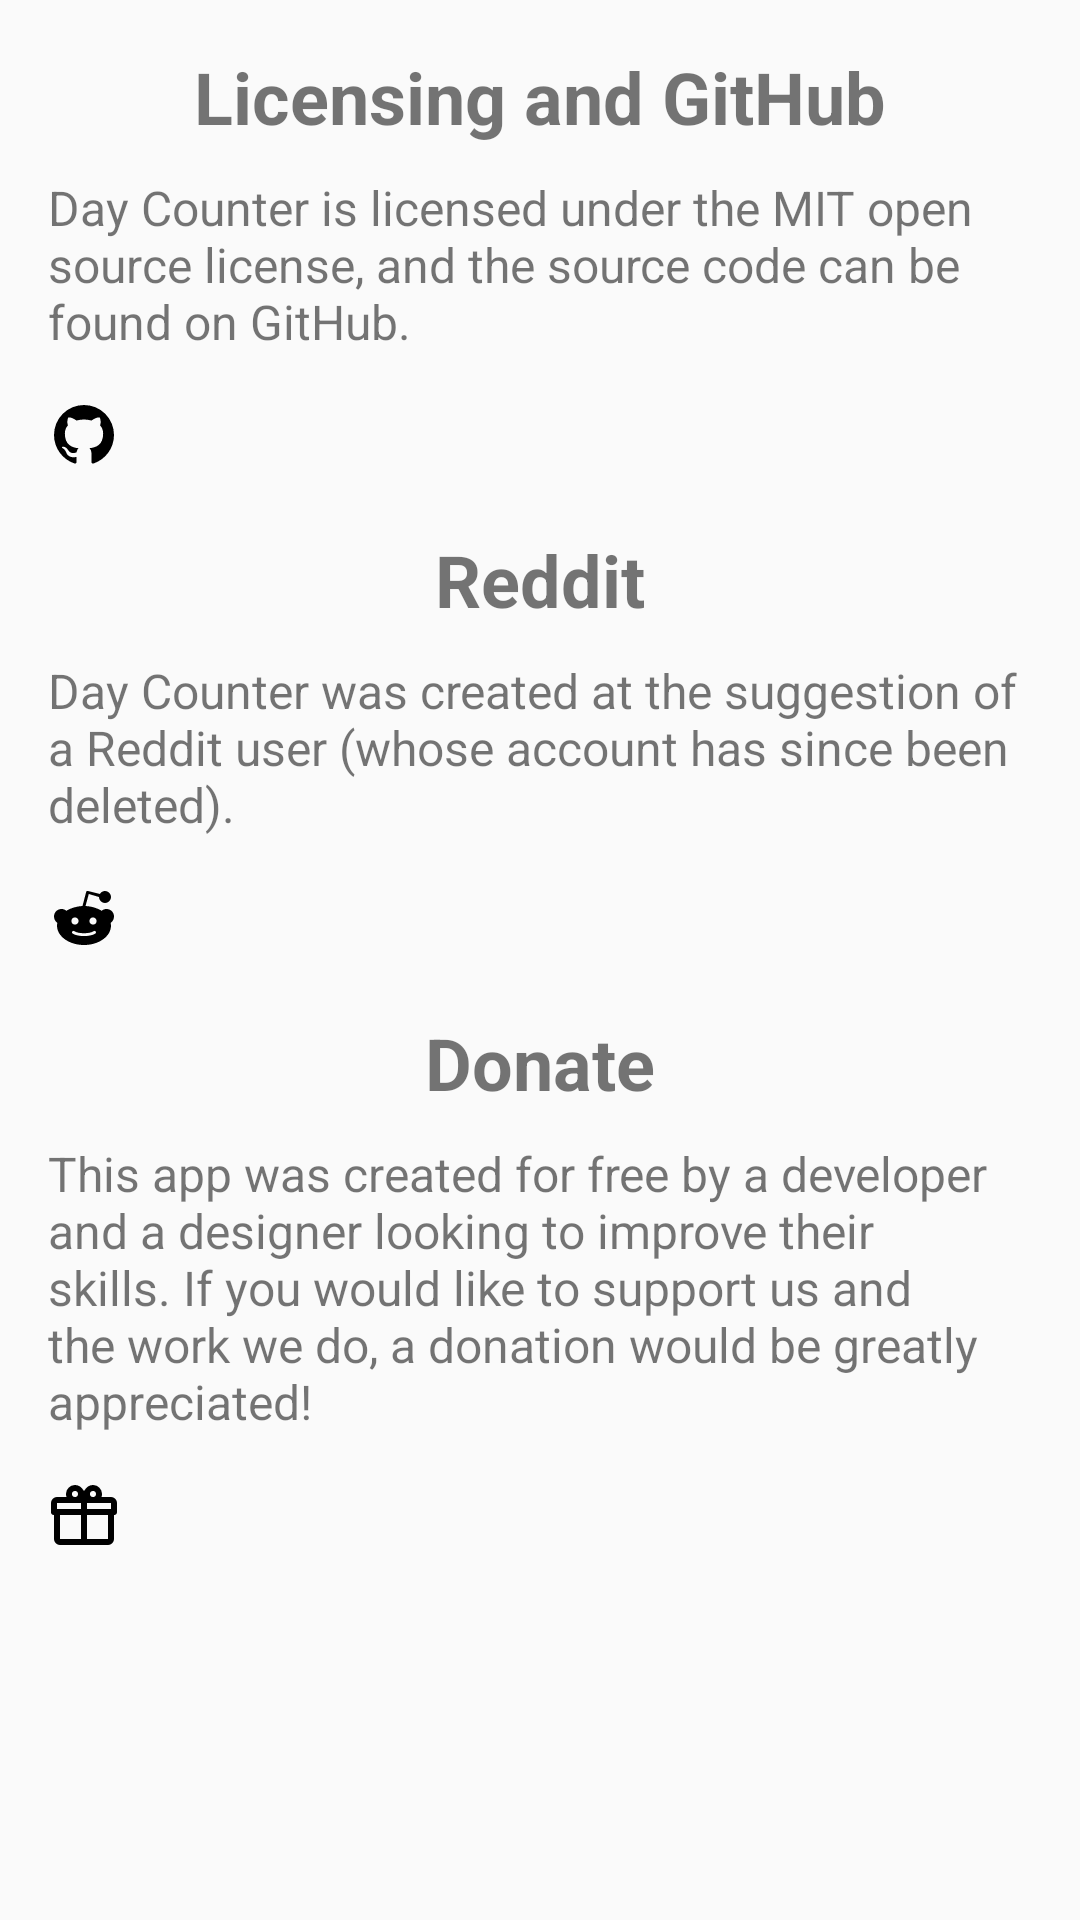

Icon bounding boxes for this 1080 × 1920 phone screenshot, format [left=x1, top=y1, right=x2, bottom=y2]:
gift: [left=51, top=1485, right=117, bottom=1545]
